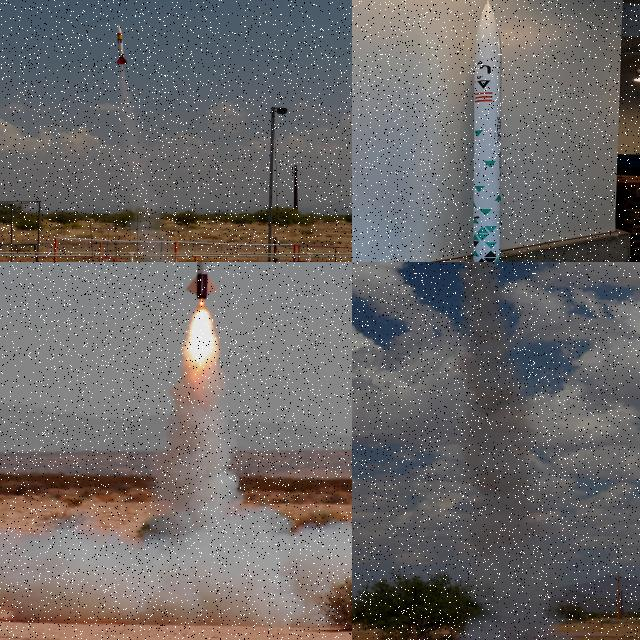Rocket: (473, 0, 502, 262), (185, 262, 219, 301), (116, 24, 128, 64), (99, 253, 108, 262)
